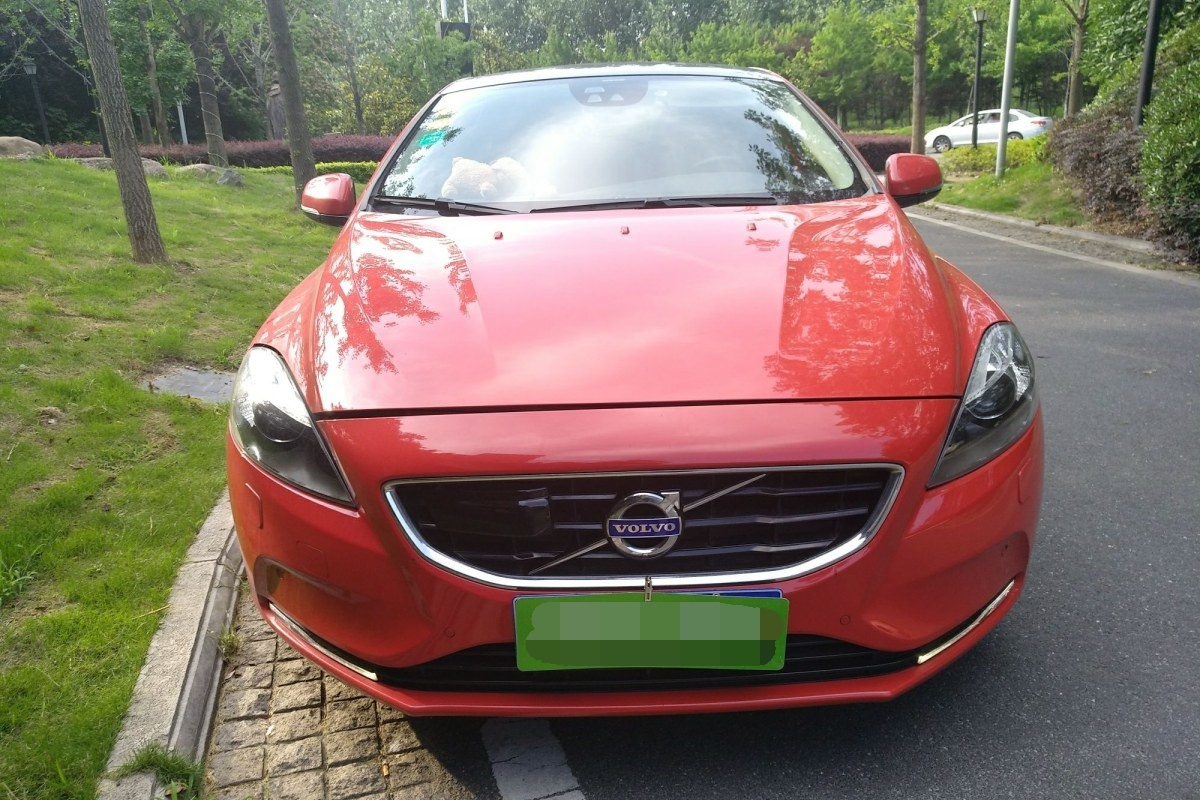family sedan: (214, 33, 1032, 719)
